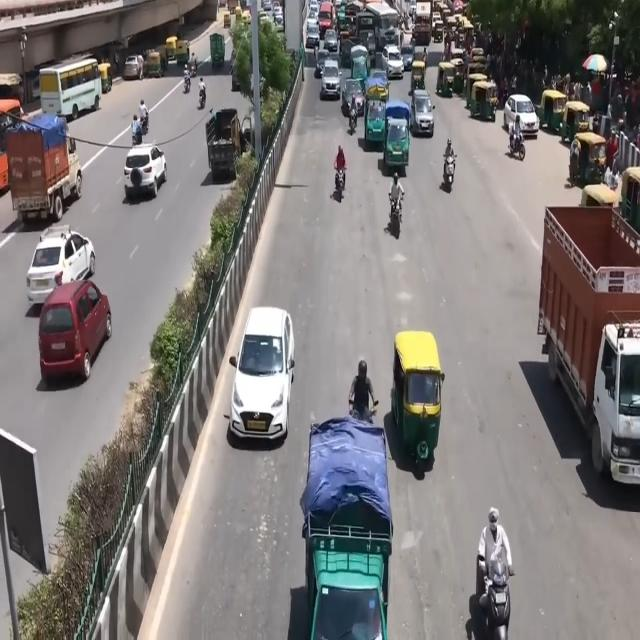auto: (302, 420, 392, 638), (390, 352, 466, 462), (389, 333, 442, 468), (570, 130, 608, 188), (384, 116, 411, 171), (560, 100, 591, 146), (540, 87, 568, 135), (469, 79, 498, 122), (436, 60, 456, 99), (448, 56, 468, 92), (467, 69, 487, 103), (142, 52, 163, 79), (411, 58, 426, 92), (98, 62, 112, 94), (431, 17, 443, 43)
bike-auto: (464, 497, 517, 640), (348, 359, 376, 422), (388, 193, 404, 229), (509, 130, 526, 161), (444, 151, 457, 186), (334, 164, 347, 196), (132, 114, 142, 146), (139, 99, 149, 131), (347, 97, 356, 130), (198, 77, 206, 107), (190, 52, 197, 76), (183, 74, 191, 94)
